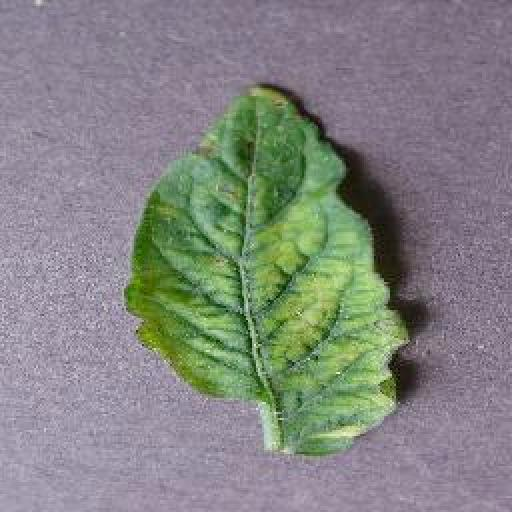disease_tomato: (116, 82, 414, 456)
